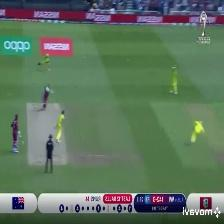batsman: (33, 84, 58, 112)
